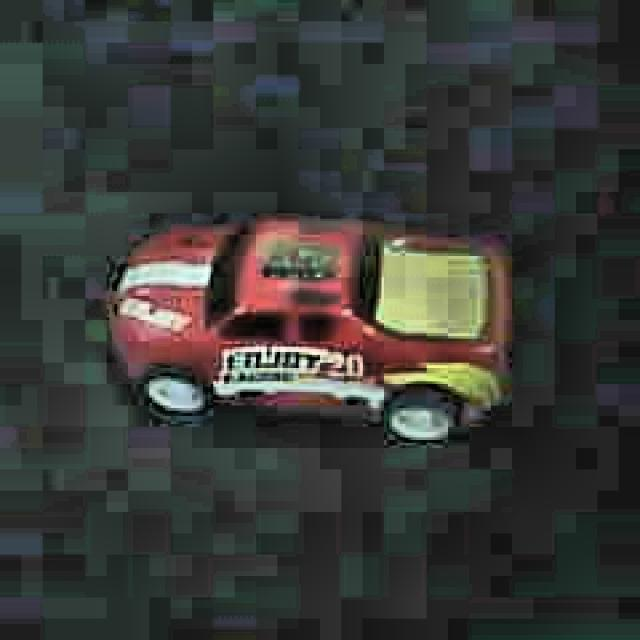car: (102, 212, 512, 447)
